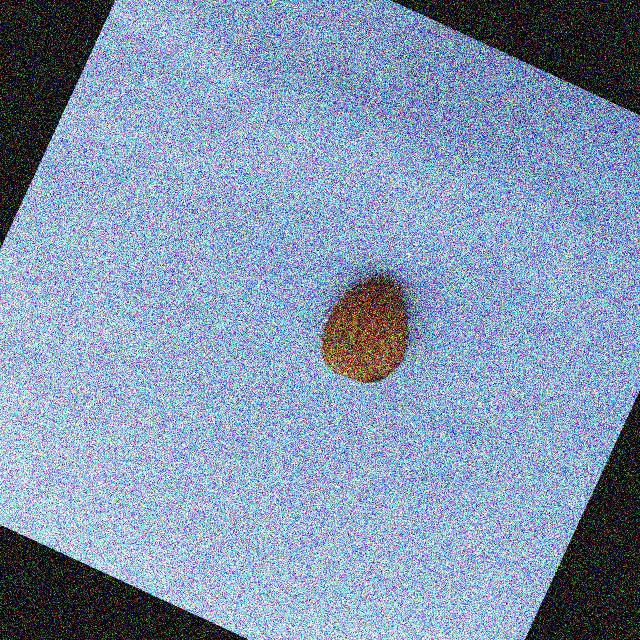grade1: (297, 252, 440, 405)
